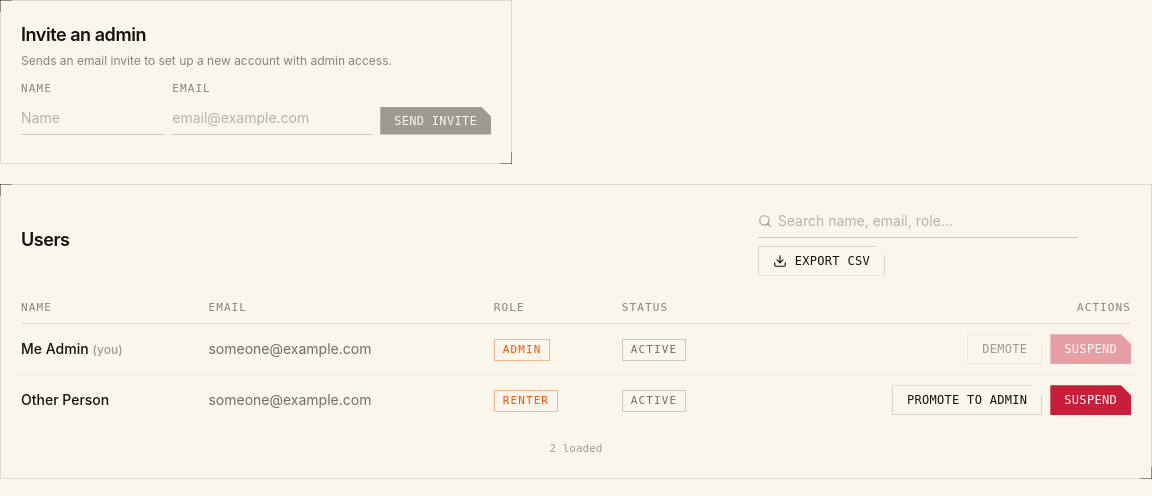
Test: UsersPanel › disables demote/suspend on the admin's own row and filters by search
Check: the button with aria-label "Demote Me Admin" is disabled, box [967,334,1042,364]
Check: the button with aria-label "Suspend Me Admin" is disabled, box [1050,334,1131,364]
Type "other" into the search field named "Search users".
click(918, 221); type("other")  # box [758,204,1078,238]
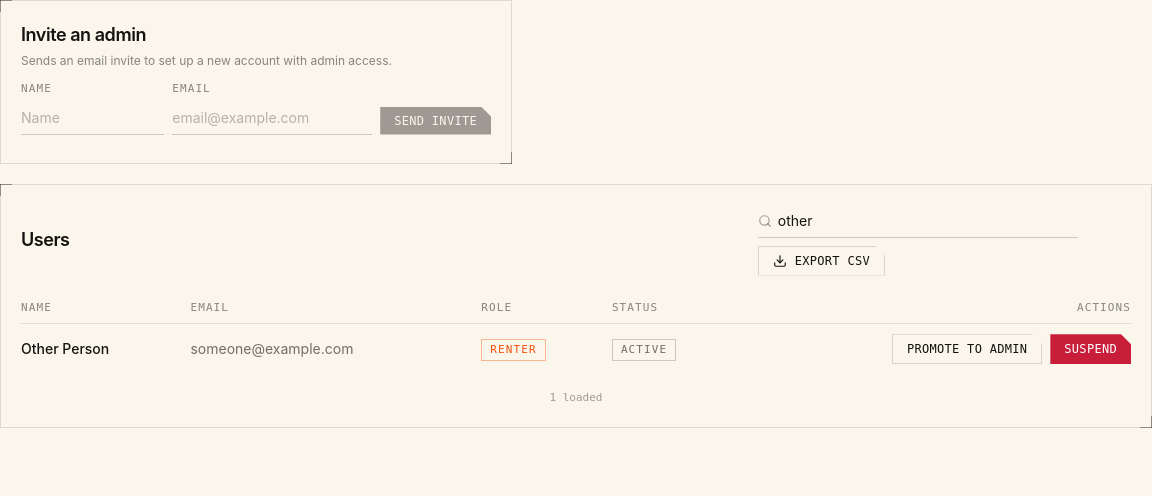
Check: the text "Other Person" is shown, box [21,324,190,374]
Check: the text "Me Admin" is gone
